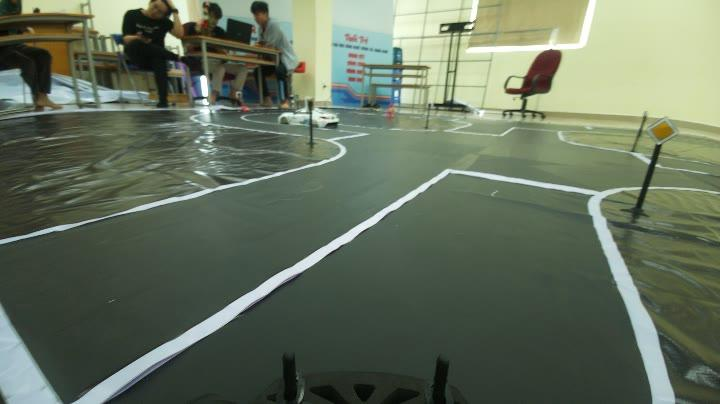priority: (638, 113, 680, 148)
